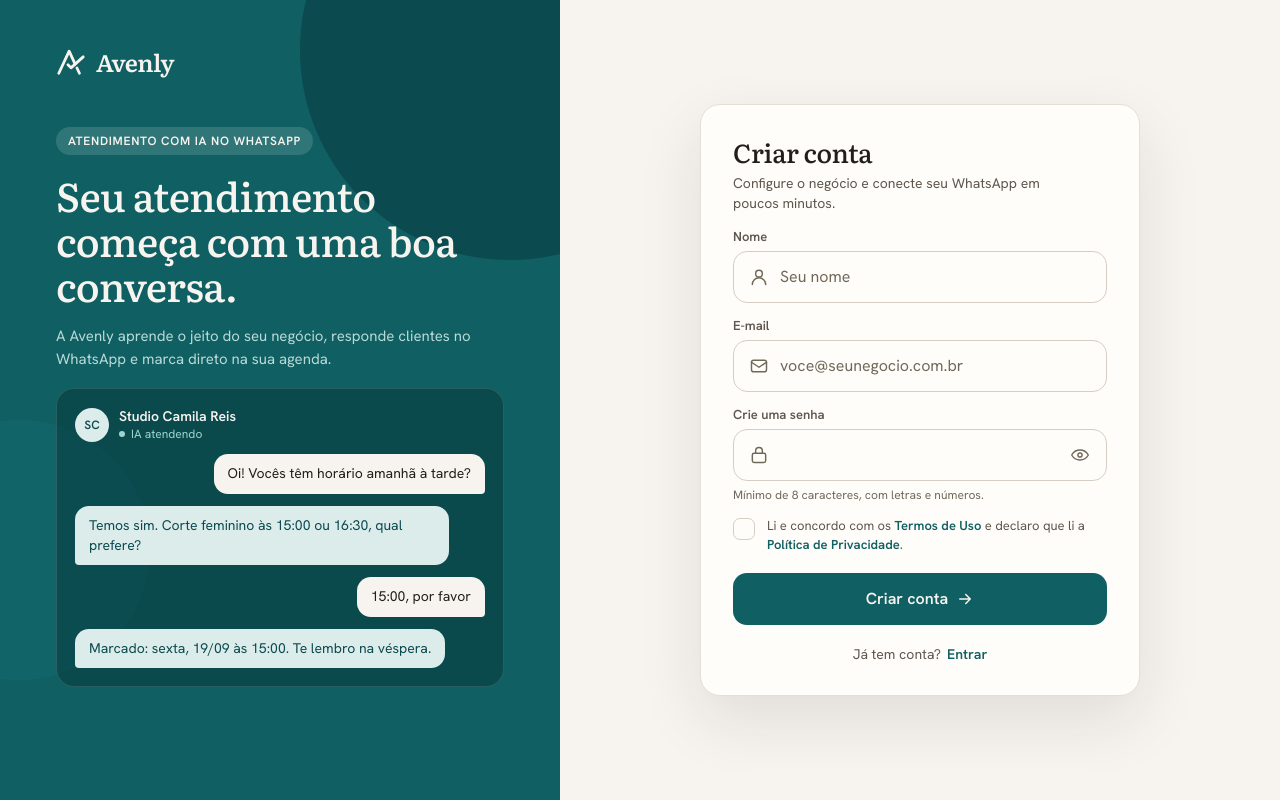
Test: validação inline — todos os erros juntos, sem reportValidity, foco no primeiro inválido › cadastro vazio mostra nome, e-mail, senha e termos juntos, e foca o nome
What coordinates should you click on to do the following:
click the button "Criar conta"
I would click on:
 (920, 599)
Its box is [733,573,1107,625].
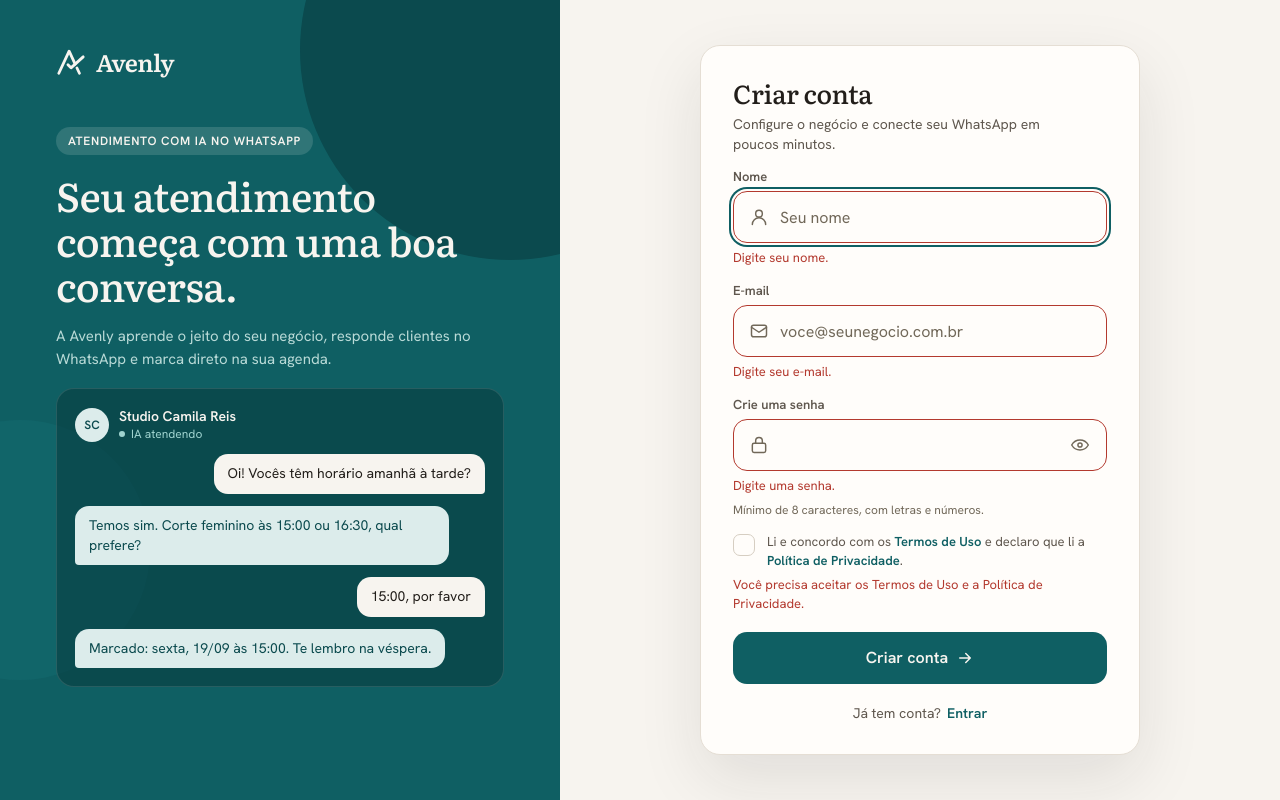
Now the text "Digite seu nome." is shown, box [733,249,828,266]
Now the text "Digite seu e-mail." is shown, box [733,363,831,380]
Now the text "Digite uma senha." is shown, box [733,477,835,494]
